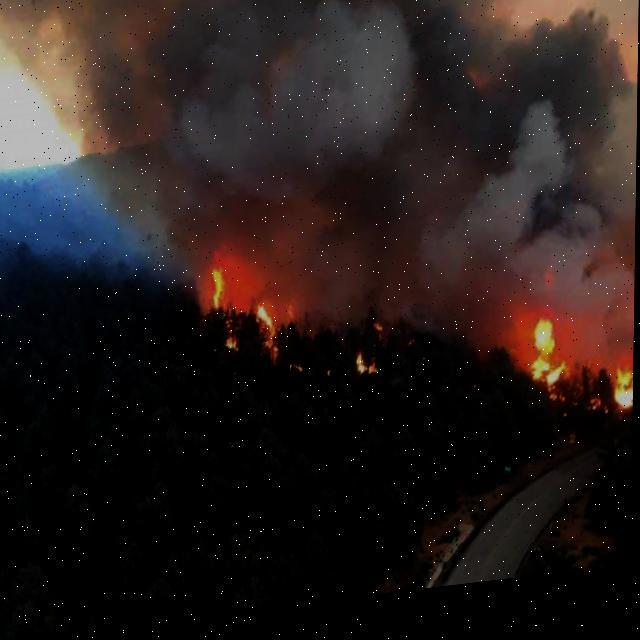Fire: (524, 332, 574, 414), (205, 265, 240, 360), (601, 374, 633, 438), (254, 313, 278, 368), (352, 362, 381, 390)
